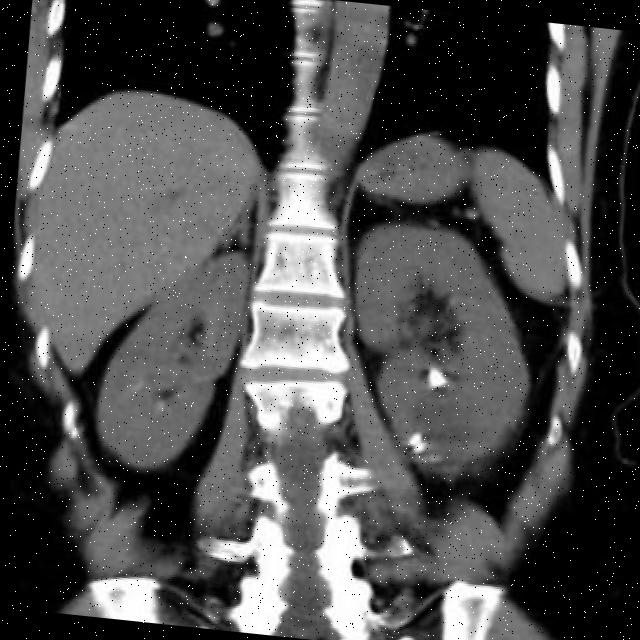Tas_Var: (419, 361, 451, 394), (403, 431, 421, 446), (408, 440, 426, 454)
